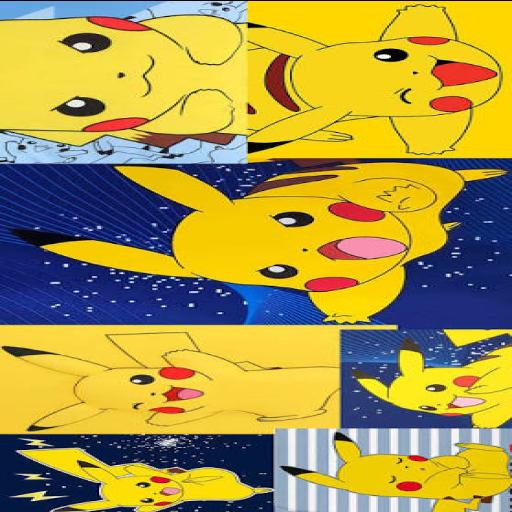Pikachu: (10, 160, 506, 322), (245, 4, 504, 154), (1, 330, 339, 430), (0, 12, 244, 148), (279, 430, 512, 512), (16, 446, 273, 512), (348, 328, 512, 427)
